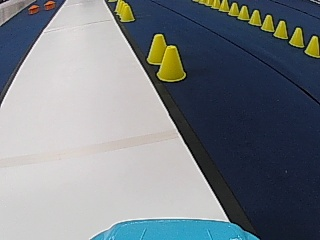cone: (156, 45, 187, 82), (146, 32, 168, 64), (304, 35, 319, 57), (289, 27, 304, 47), (119, 3, 134, 21), (273, 20, 287, 39), (261, 14, 274, 32), (248, 9, 261, 26), (237, 5, 249, 20), (228, 3, 238, 16), (218, 0, 228, 12)
